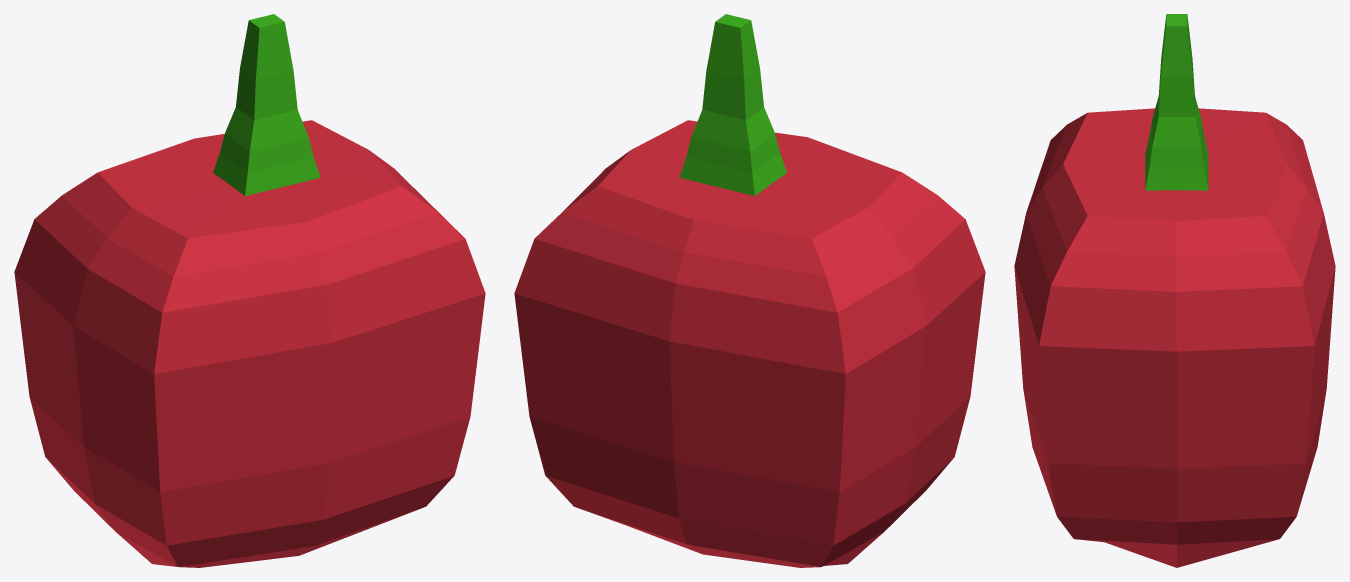
Rendered from tomato.fbx.
3 renders of one model, left to right at view 1: azimuth 30°, elevation 25°; view 2: azimuth 150°, elevation 25°; view 3: azimuth 270°, elevation 25°, orthographic.
Parts seen in each view (by area): view 1: Tomato; view 2: Tomato; view 3: Tomato.
Boxes of the visible parts, x1,y1,x2,y2 form: Tomato: (14,14,485,567); Tomato: (514,14,985,567); Tomato: (1014,14,1335,567).
Bounding box in the file's own units: 0.6711 × 0.9329 × 0.5342.
